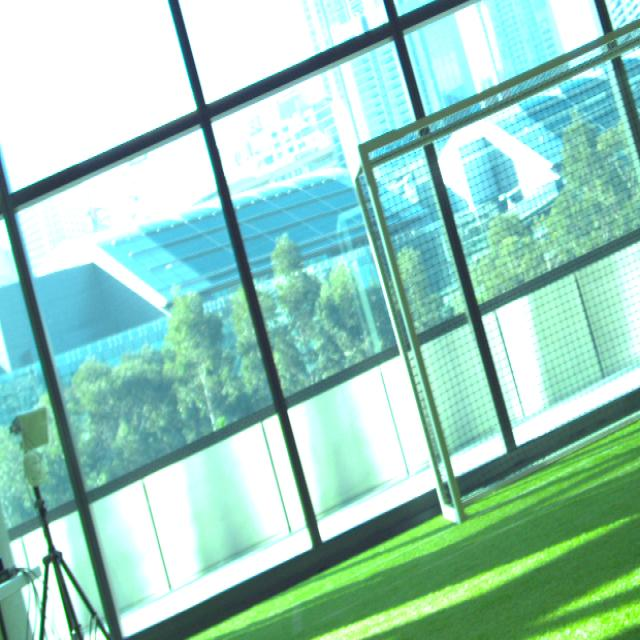goalpost: (357, 144, 466, 523)
